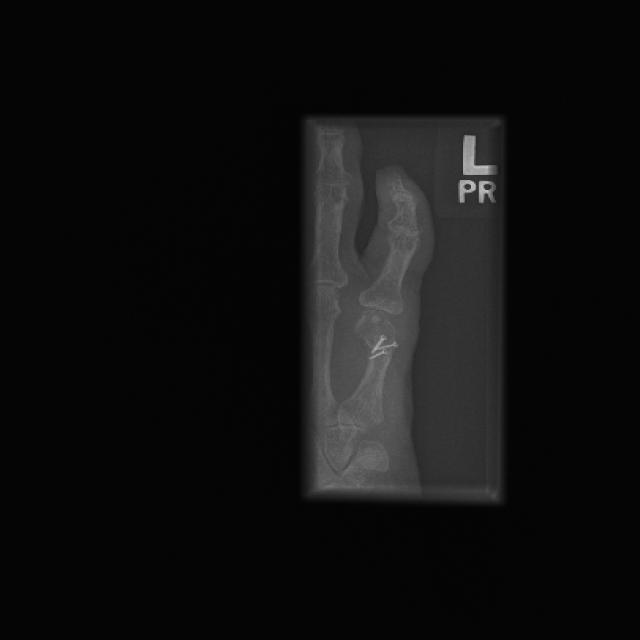fingers positive: (358, 327, 409, 366)
